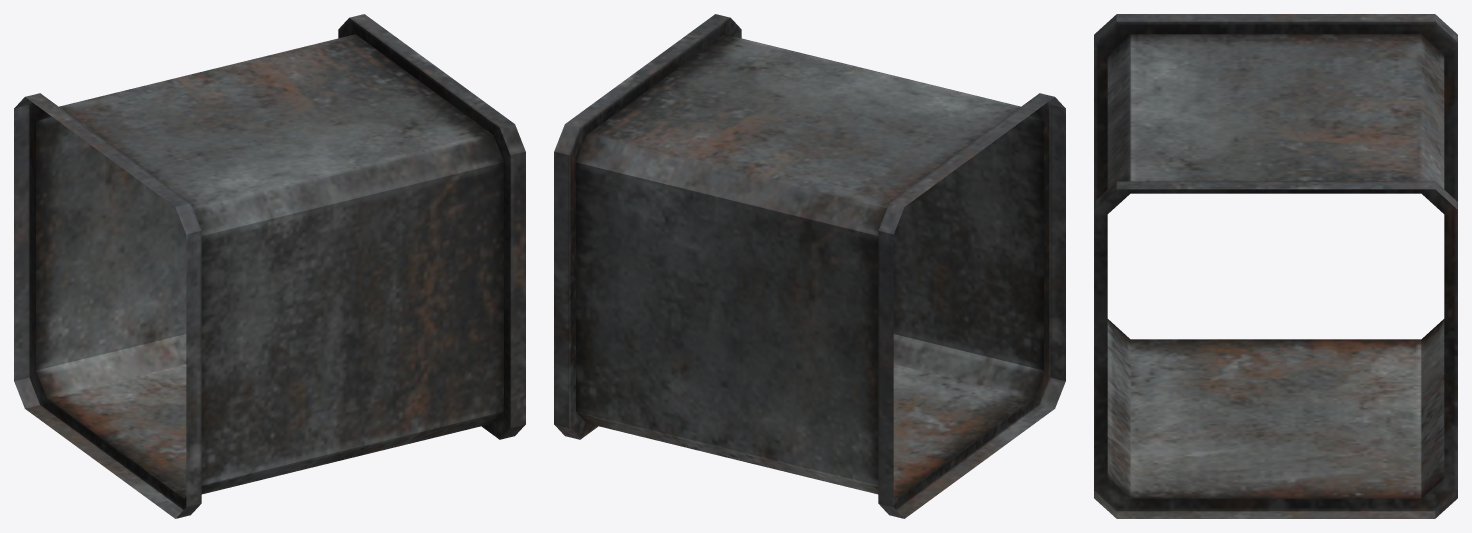
The model's file is Vent_S.FBX.
The picture shows the model from 3 angles, left to right: view 1: azimuth 30°, elevation 25°; view 2: azimuth 150°, elevation 25°; view 3: azimuth 270°, elevation 25°; orthographic projection. The views are drawn at different scales.
Parts seen in each view (by area): view 1: Vent_S; view 2: Vent_S; view 3: Vent_S.
Part boxes in pixels (<box>): Vent_S: <box>14,14,525,518</box>; Vent_S: <box>554,14,1065,518</box>; Vent_S: <box>1094,14,1457,518</box>.
Size of the model in its own units: 91.11 by 79.96 by 79.96.
